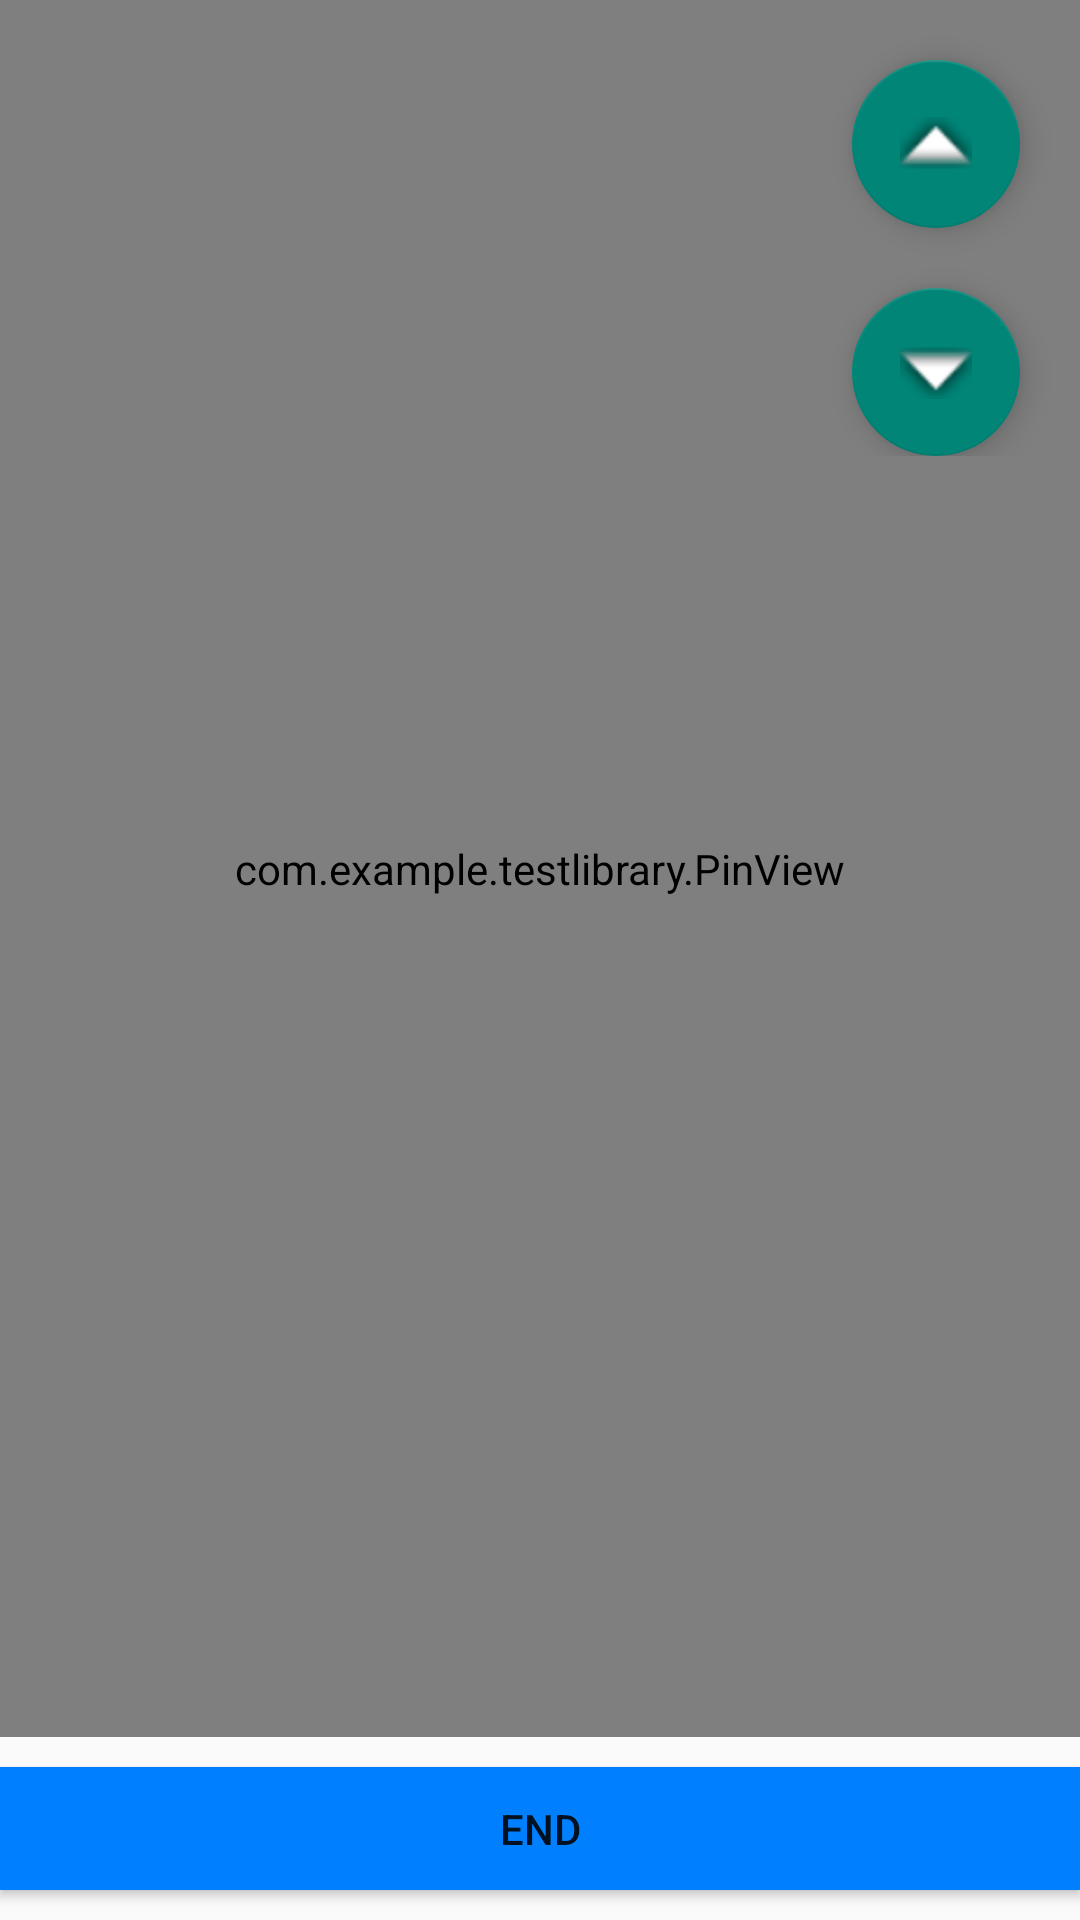

Named icons in this screenshot (1080×1920) and their centers, [x,y]:
arrow down float: [936,372]
arrow up float: [936,144]
